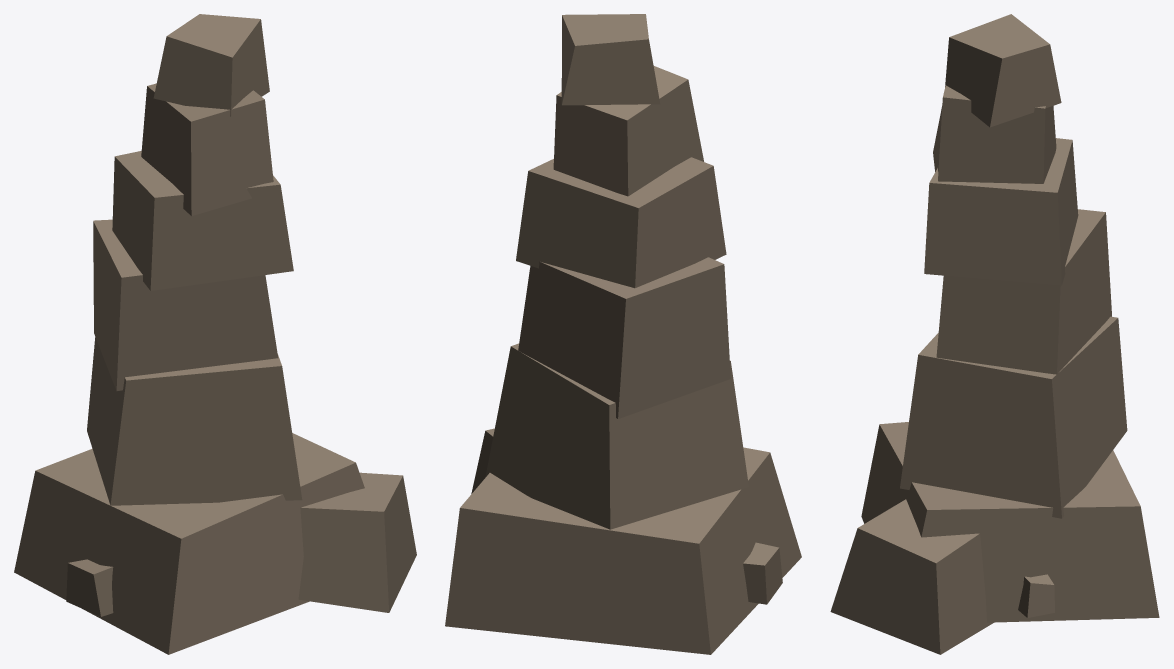
File: crag.glb
The picture shows the model from 3 angles, left to right: view 1: azimuth 30°, elevation 25°; view 2: azimuth 150°, elevation 25°; view 3: azimuth 270°, elevation 25°; orthographic projection. The views are drawn at different scales.
Visible parts, largest first — view 1: crag; view 2: crag; view 3: crag.
Part boxes in pixels (x1,y1,x2,y2): crag: [14, 14, 416, 654]; crag: [445, 14, 801, 654]; crag: [830, 14, 1159, 654].
Size of the model in its own units: 2.21 by 3.6 by 1.98.
